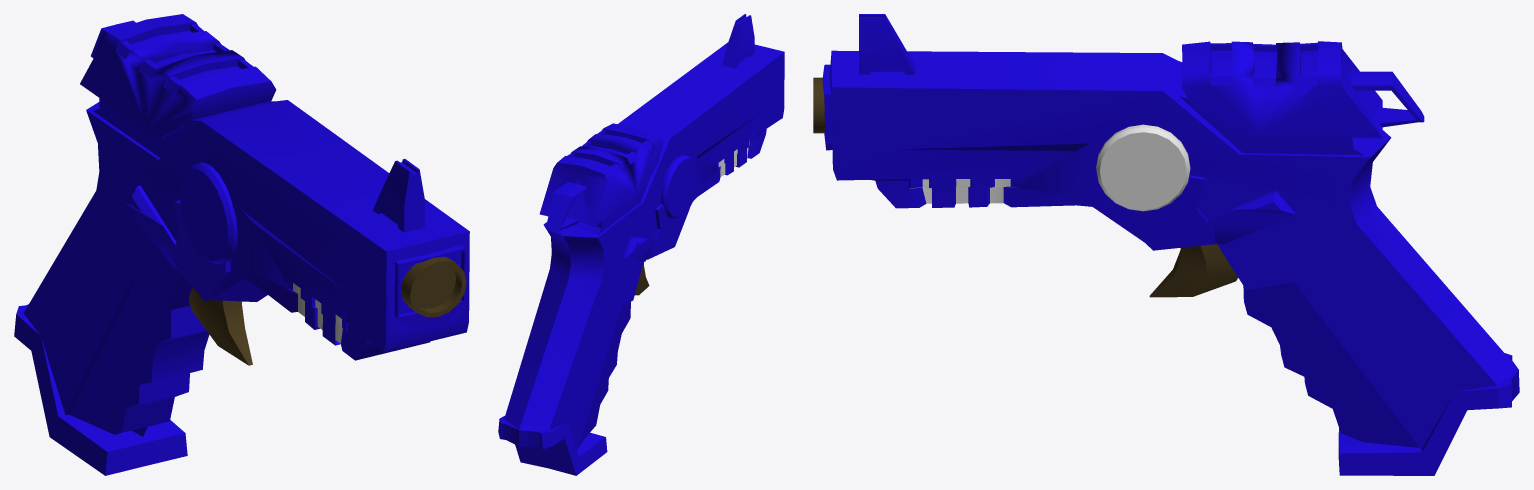
Rendered from pistolalaser.fbx.
The picture shows the model from 3 angles, left to right: view 1: azimuth 30°, elevation 25°; view 2: azimuth 150°, elevation 25°; view 3: azimuth 270°, elevation 25°; orthographic projection. The views are drawn at different scales.
Parts seen in each view (by area): view 1: Circle; view 2: Circle; view 3: Circle.
Boxes of the visible parts, x1,y1,x2,y2 form: Circle: (14,14,469,475); Circle: (498,14,784,475); Circle: (813,14,1519,475).
Bounding box in the file's own units: 30.22 × 133 × 193.
